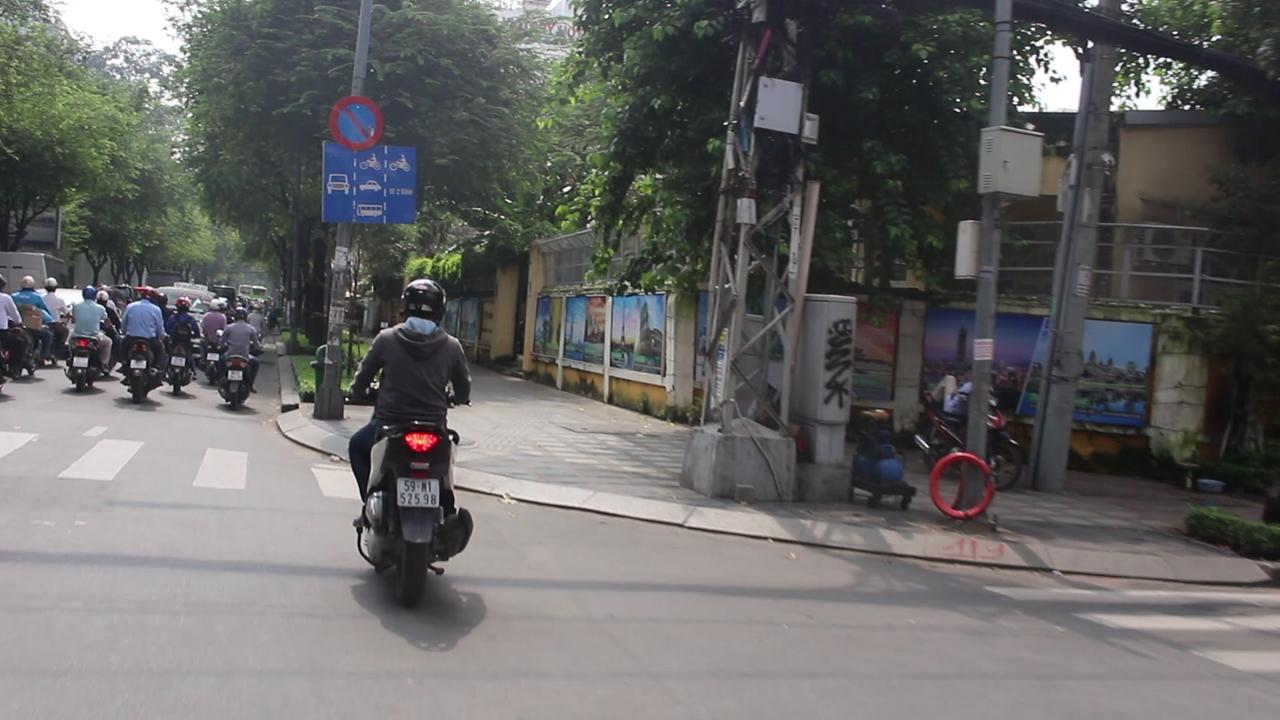P.102: (330, 94, 384, 148)
